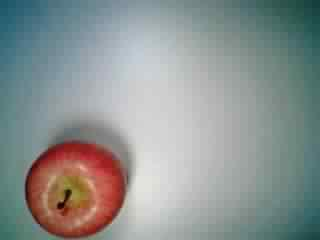apple: (24, 138, 128, 239)
